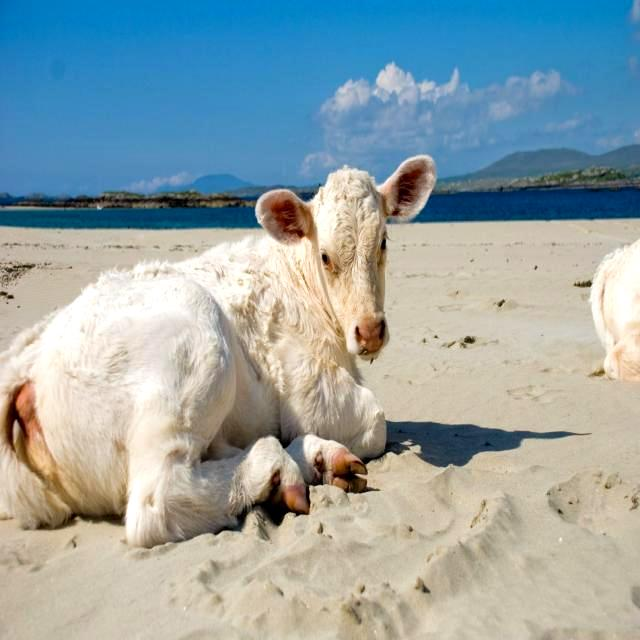COW: (0, 157, 435, 546)
